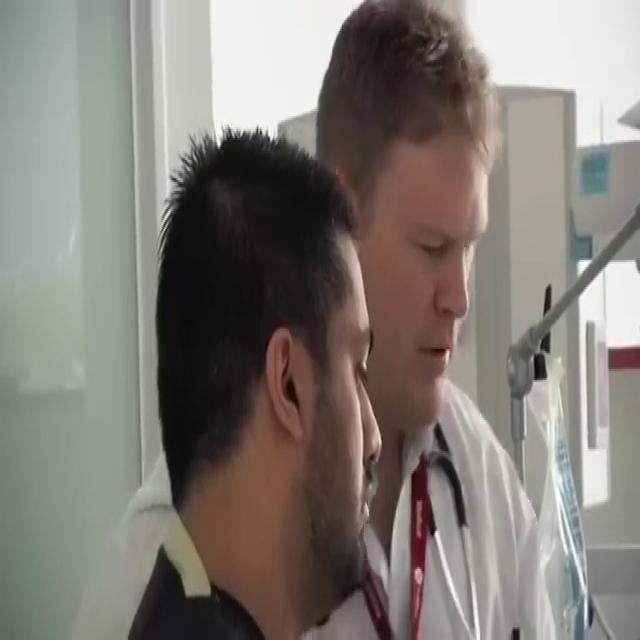doctor: (311, 0, 557, 636)
others: (128, 124, 392, 638)
